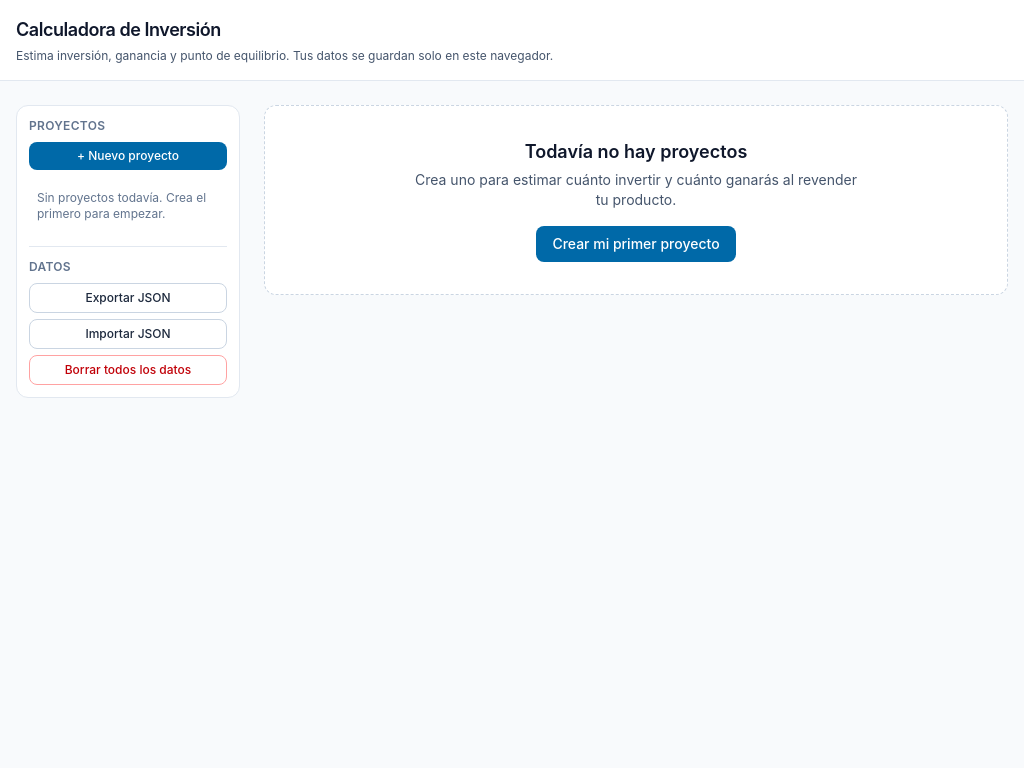
Test case: App › crea el primer proyecto y muestra el formulario
This screenshot has width=1024, height=768.
Click the button "Crear mi primer proyecto".
click(636, 244)  # box x1=536 y1=226 x2=736 y2=262
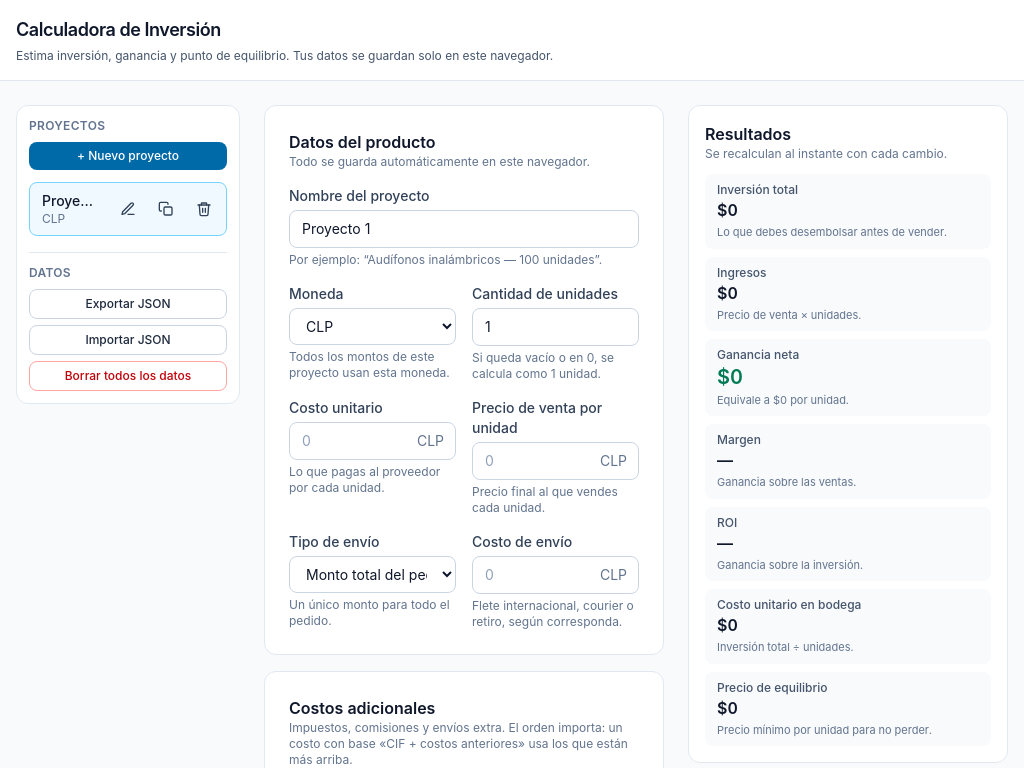
Now the heading "Datos del producto" is shown, box x1=289 y1=132 x2=436 y2=152
Now the field labelled "Nombre del proyecto" holds "Proyecto 1", box x1=289 y1=210 x2=639 y2=248
